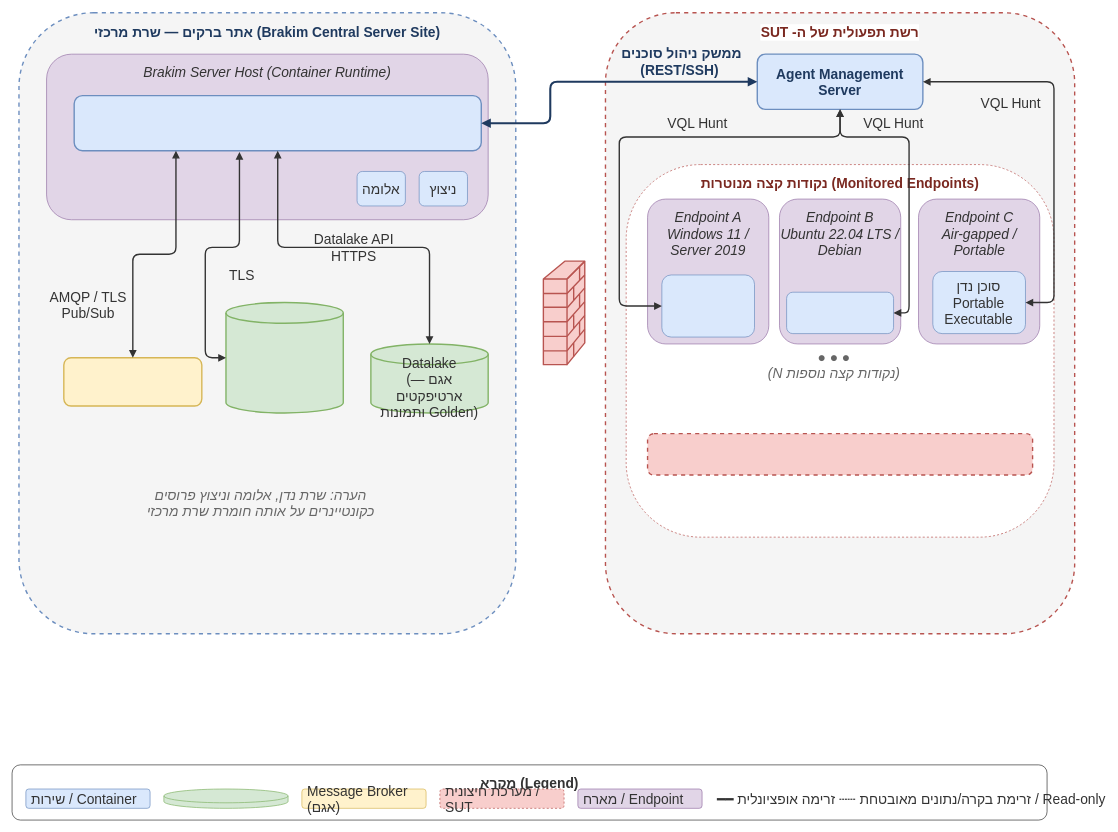
Some shapes in this 1118 by 832 pixel diagram are drawn without their labels. The centre of each missing label's shape, as x and y in pixels:
PostgreSQL (תצורת בסיס ,תצורות סוכנים, תיעוד ): the point at 284,357
RabbitMQ Broker (מנוהל ע"י אגם): the point at 132,381
System Boundary: the point at 563,312
System Under Test (SUT) מערכת נבדקת — לא בתחום אספקת נדן: the point at 840,454
מסד נתונים / אחסון: the point at 225,798
סוכן נדן Linux systemd: the point at 840,313
סוכן נדן Windows Service: the point at 708,305
שרת נדן (Nadan Server) Container: the point at 277,123
